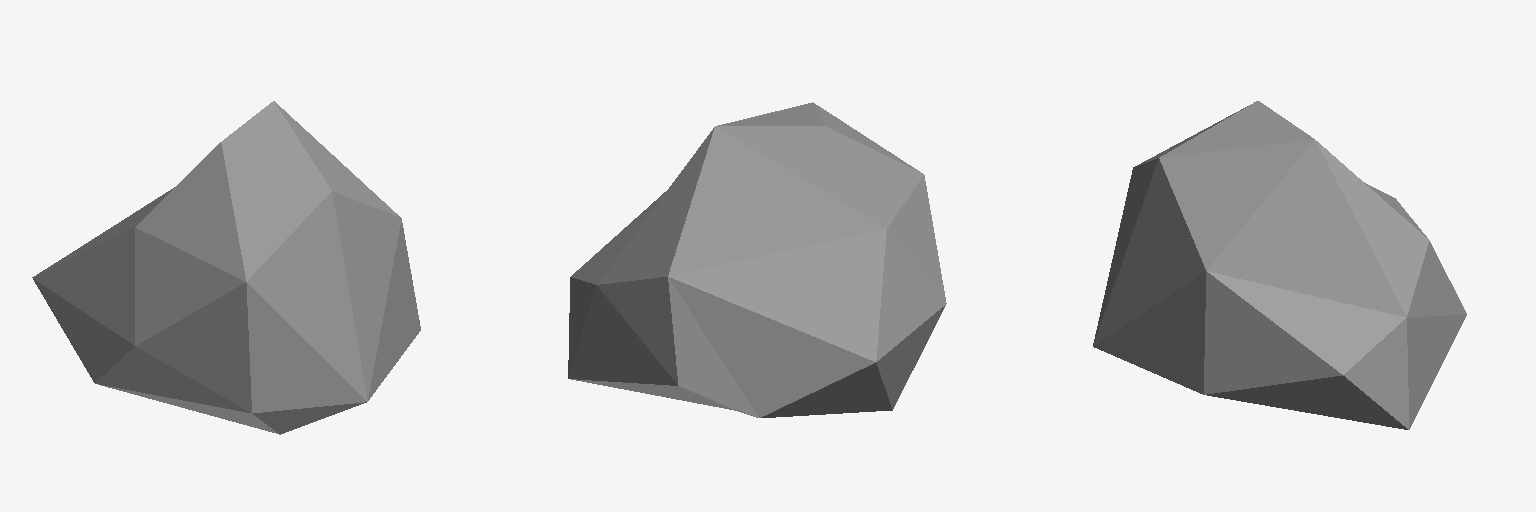
File: Low_Poly_Rock_006.obj
3 renders of one model, left to right at view 1: azimuth 30°, elevation 25°; view 2: azimuth 150°, elevation 25°; view 3: azimuth 270°, elevation 25°, orthographic.
Parts seen in each view (by area): view 1: Low_Poly_Rock_006_Icosphere.013; view 2: Low_Poly_Rock_006_Icosphere.013; view 3: Low_Poly_Rock_006_Icosphere.013.
Part boxes in pixels (left/top/right/bottom): Low_Poly_Rock_006_Icosphere.013: left=32, top=101, right=420, bottom=434; Low_Poly_Rock_006_Icosphere.013: left=568, top=102, right=946, bottom=417; Low_Poly_Rock_006_Icosphere.013: left=1093, top=101, right=1466, bottom=429.
Size of the model in its own units: 2.26 by 1.74 by 2.21.